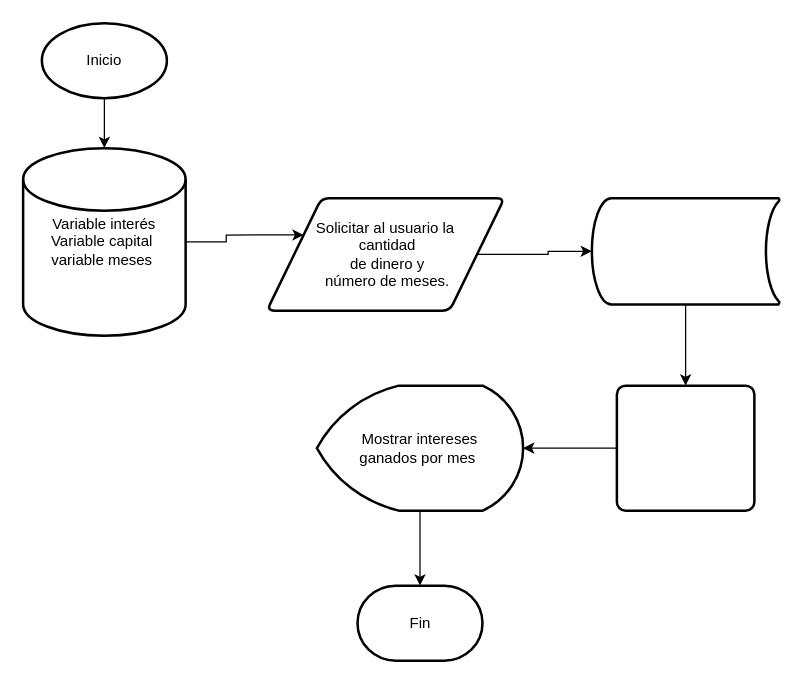
Some shapes in this 801 by 683 pixel diagram are drawn without their labels. Each missing label, with the centre of its shape:
"Calcular los intereses ganados por mes" belongs at point (685, 447).
"Declara un vector para almacenar los intereses ganados por mes" belongs at point (685, 250).
